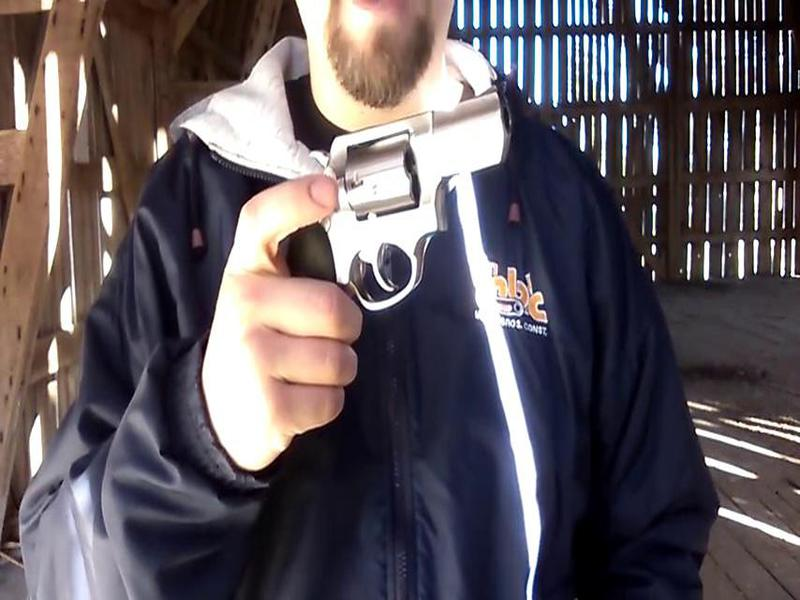Revolver: (293, 71, 525, 356)
